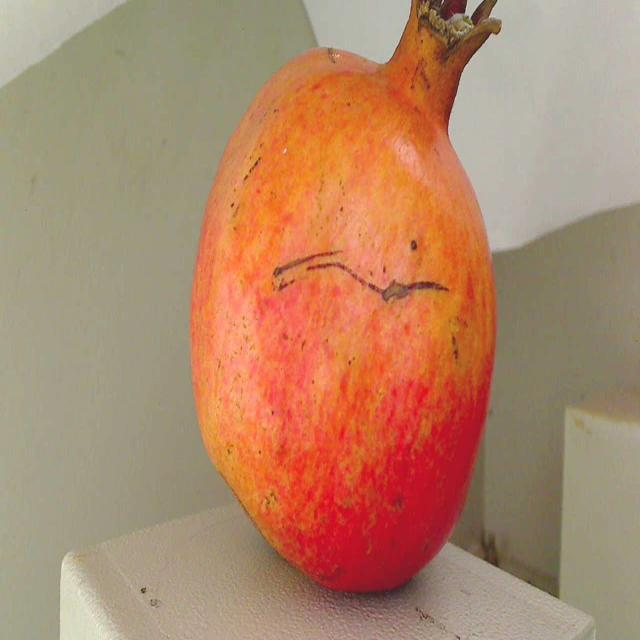pomegranate: (184, 0, 516, 605)
